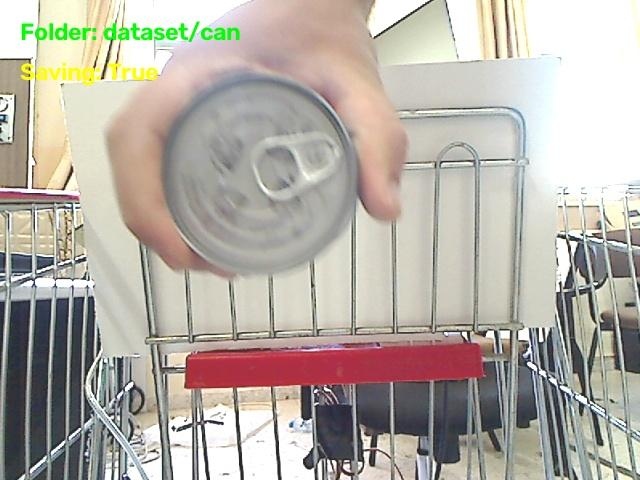can: (163, 73, 357, 274)
